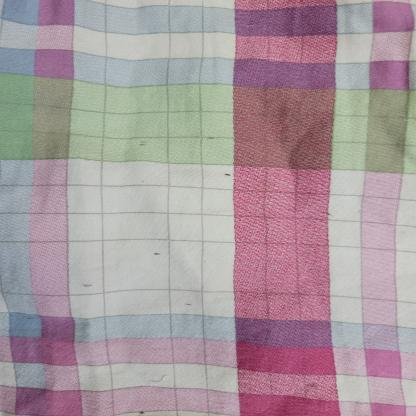spot: (80, 280, 96, 288), (204, 132, 216, 142), (135, 140, 150, 148), (151, 249, 166, 257), (223, 170, 234, 179), (185, 302, 195, 307), (326, 211, 334, 217), (27, 316, 38, 320), (136, 410, 147, 414), (140, 179, 147, 184), (45, 343, 53, 347)
